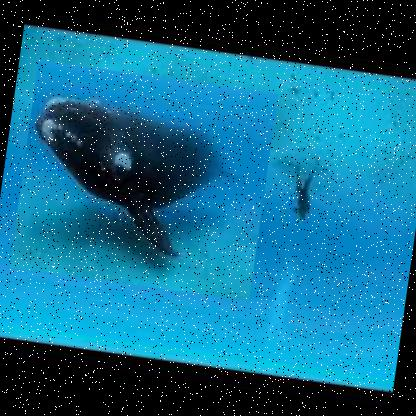blue_whale: (9, 58, 279, 300)
